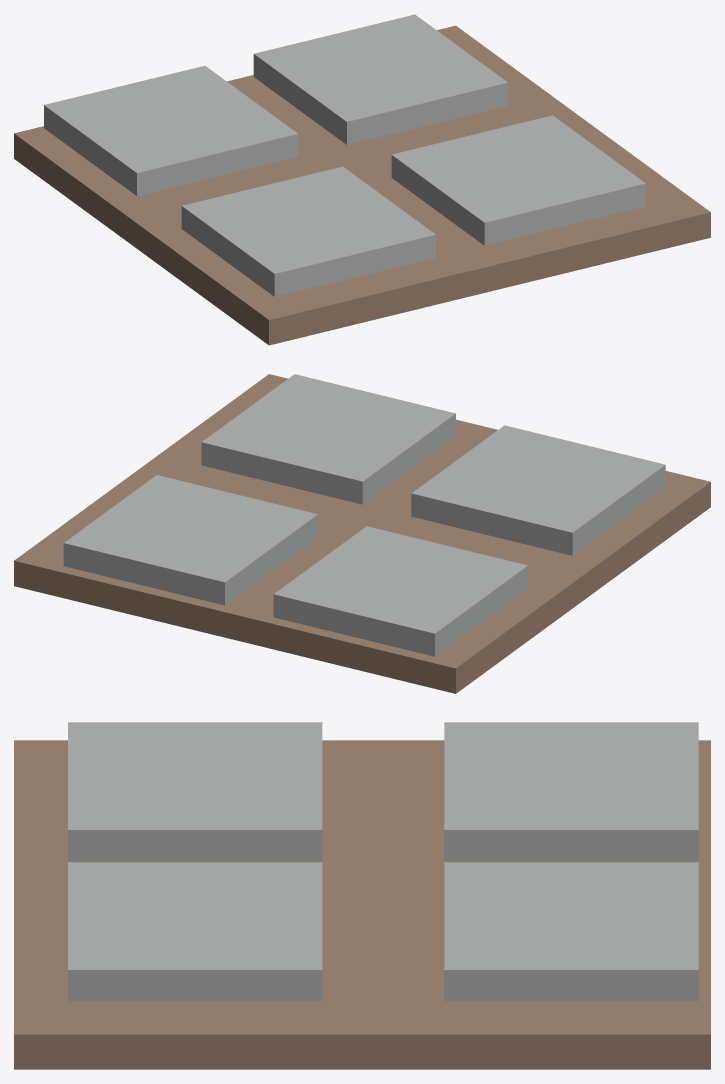
Rendered from village_stone_path_2m.glb.
3 views of the same model, one above another, from view 1: azimuth 30°, elevation 25°; view 2: azimuth 150°, elevation 25°; view 3: azimuth 270°, elevation 25° (orthographic). The views are drawn at different scales.
Visible parts, largest first — view 1: stone, soil; view 2: stone, soil; view 3: stone, soil.
Part boxes in pixels (box(x1,y1,x2,y2)): stone: box(44, 14, 645, 296); soil: box(14, 25, 710, 345); stone: box(63, 374, 665, 656); soil: box(14, 374, 710, 693); stone: box(68, 722, 698, 1001); soil: box(14, 740, 710, 1069).
Bounding box in the file's own units: 2 × 0.22 × 2.
